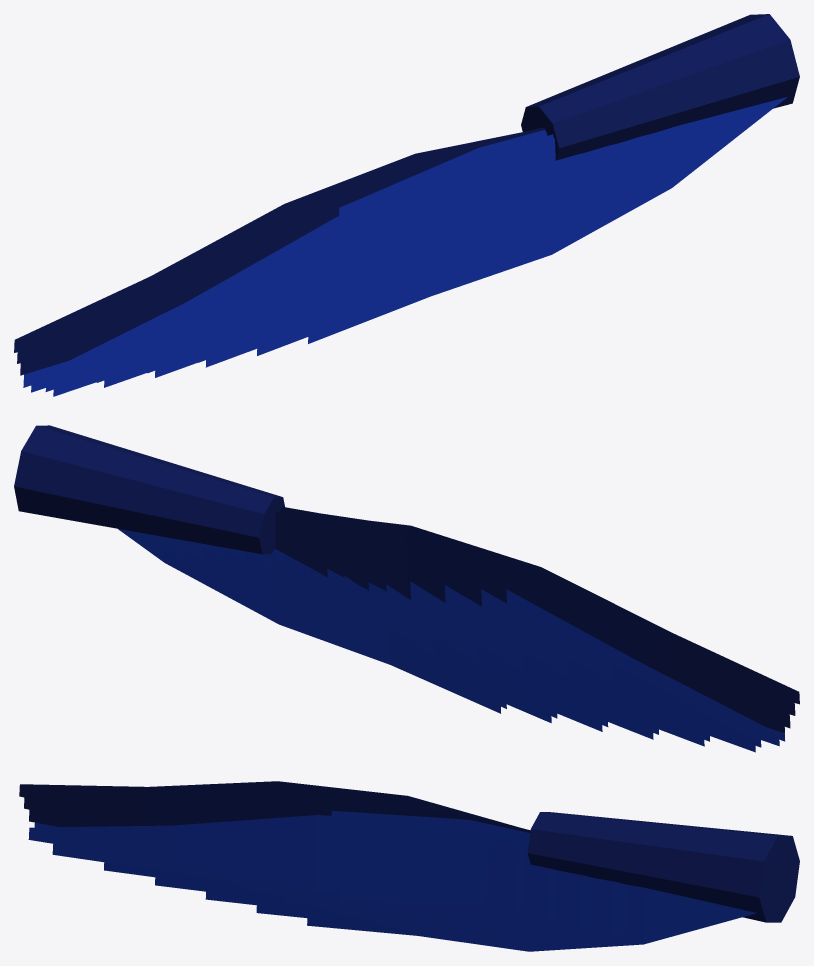
The model's file is sb_wing_out@1.glb.
The picture shows the model from 3 angles, top to bottom: view 1: azimuth 30°, elevation 25°; view 2: azimuth 150°, elevation 25°; view 3: azimuth 330°, elevation 25°; orthographic projection. The views are drawn at different scales.
Parts seen in each view (by area): view 1: teil1, teil0; view 2: teil0, teil1; view 3: teil1, teil0.
Boxes of the visible parts, x1,y1,x2,y2 form: teil1: (23, 97, 787, 396); teil0: (14, 14, 799, 375); teil0: (14, 425, 799, 732); teil1: (118, 529, 785, 752); teil1: (28, 810, 756, 951); teil0: (19, 781, 799, 922).
Bounding box in the file's own units: 0.1622 × 0.0391 × 0.0206.
